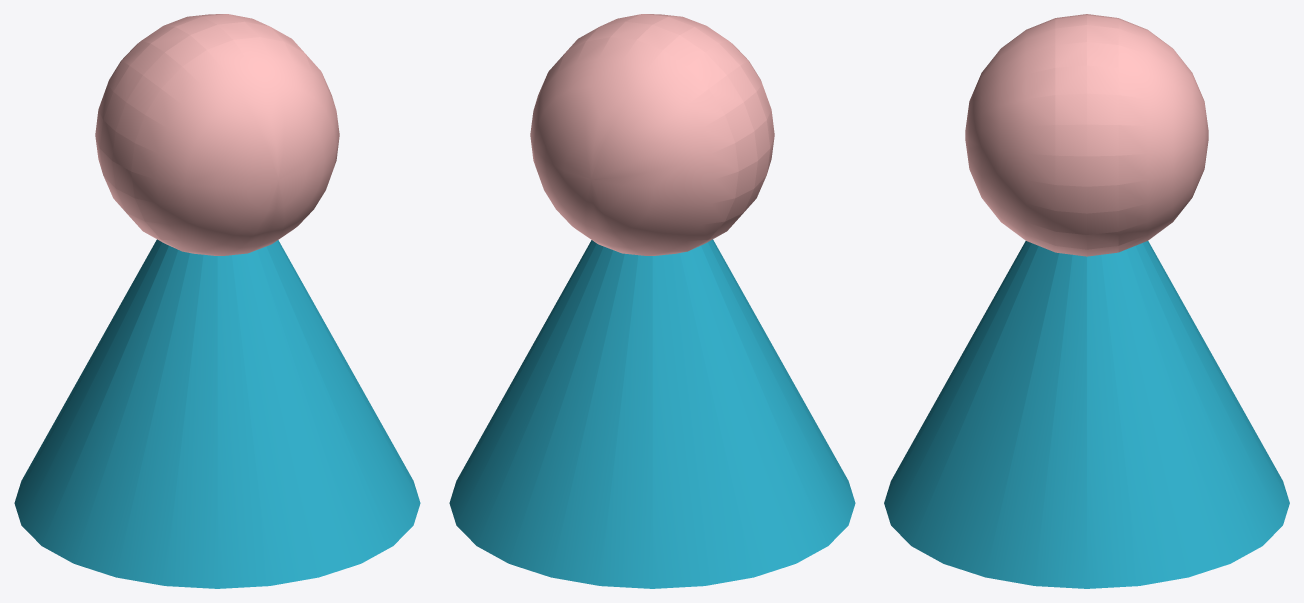
Rendered from figure_4.fbx.
3 renders of one model, left to right at view 1: azimuth 30°, elevation 25°; view 2: azimuth 150°, elevation 25°; view 3: azimuth 270°, elevation 25°, orthographic.
Visible parts, largest first — view 1: cylinder_cone_8, sphere_full_9; view 2: cylinder_cone_8, sphere_full_9; view 3: cylinder_cone_8, sphere_full_9.
Boxes of the visible parts, x1=… form: cylinder_cone_8: x1=14, y1=239, x2=420, y2=588; sphere_full_9: x1=95, y1=14, x2=339, y2=255; cylinder_cone_8: x1=449, y1=239, x2=855, y2=588; sphere_full_9: x1=530, y1=14, x2=774, y2=255; cylinder_cone_8: x1=884, y1=241, x2=1289, y2=588; sphere_full_9: x1=965, y1=14, x2=1208, y2=256.
Size of the model in its own units: 10 by 13 by 10.
